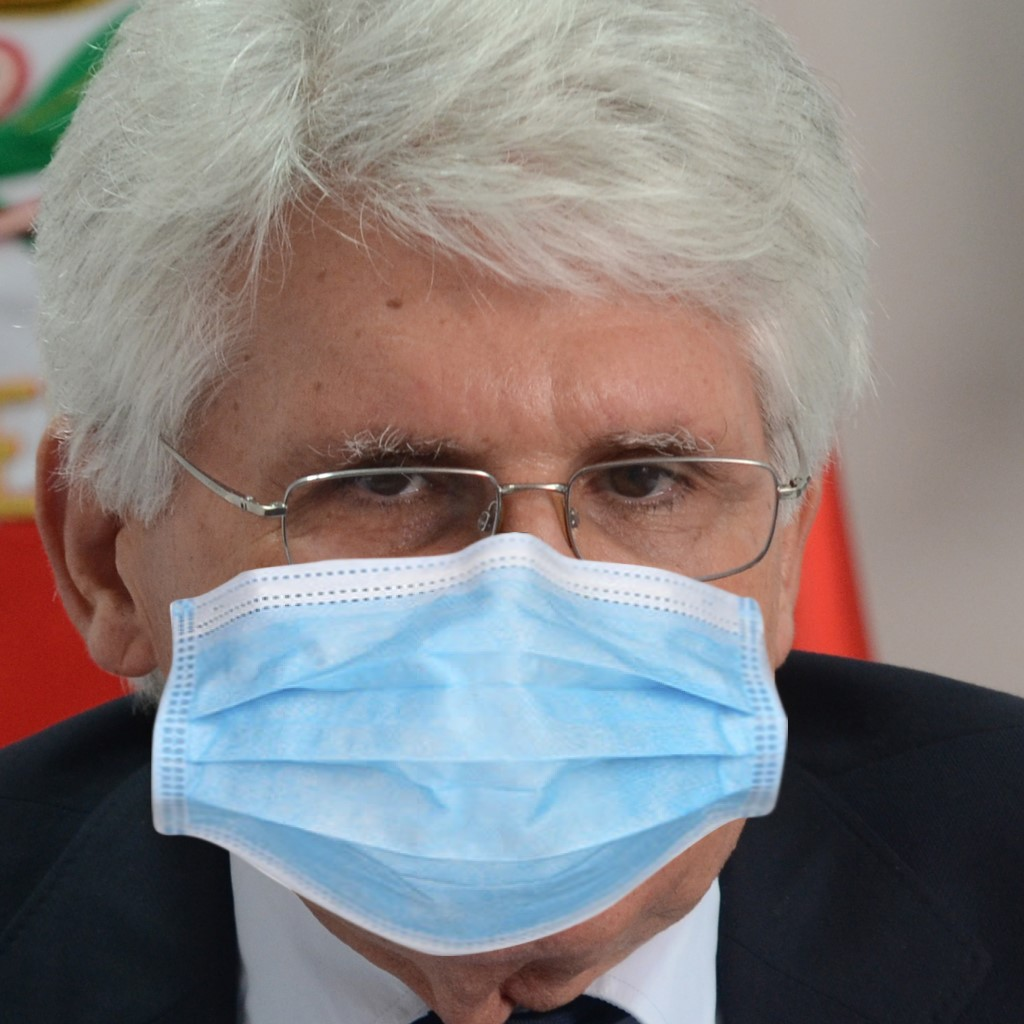con_mascara: (148, 134, 794, 951)
